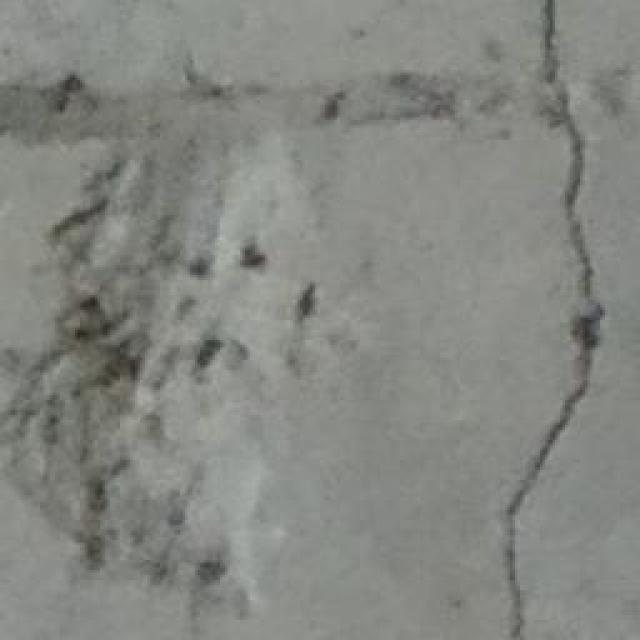Longitudinal: (498, 0, 620, 640)
Rippled: (0, 19, 473, 640)
